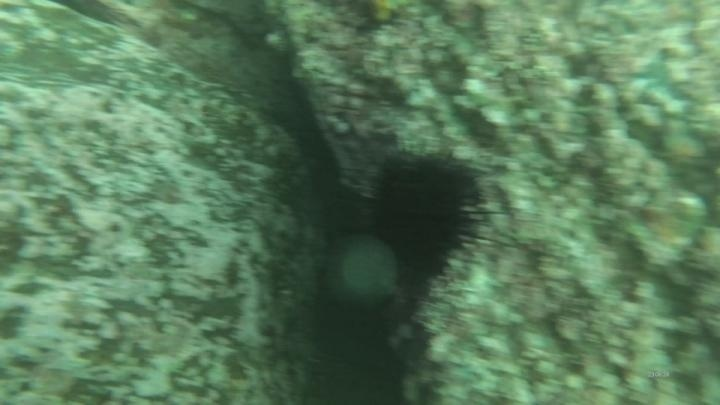echinus: (360, 147, 491, 279)
